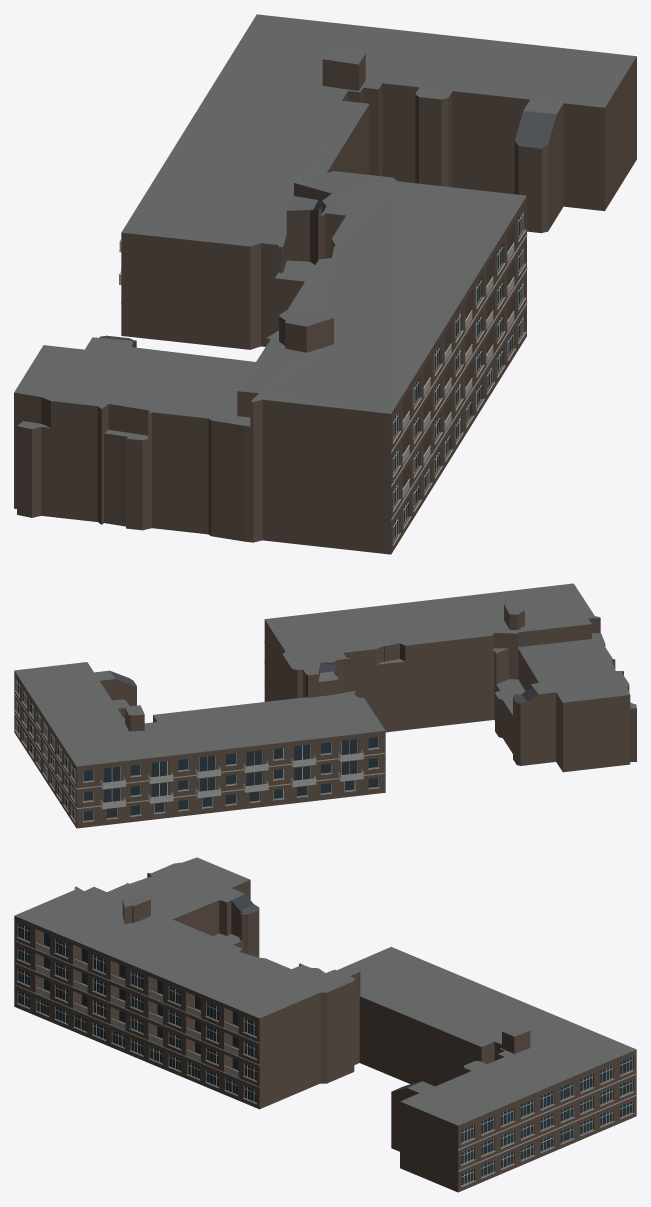
The model's file is recipe-large-van-beuningenstraat-48-093853.glb.
3 views of the same model, one above another, from view 1: azimuth 30°, elevation 25°; view 2: azimuth 150°, elevation 25°; view 3: azimuth 270°, elevation 25° (orthographic). The views are drawn at different scales.
Parts seen in each view (by area): view 1: van-beuningenstraat-48-093853; view 2: van-beuningenstraat-48-093853; view 3: van-beuningenstraat-48-093853.
Boxes of the visible parts, bbox=[...] form: van-beuningenstraat-48-093853: bbox=[14, 14, 636, 554]; van-beuningenstraat-48-093853: bbox=[14, 583, 636, 828]; van-beuningenstraat-48-093853: bbox=[14, 857, 636, 1192].
Size of the model in its own units: 97.8 by 18.87 by 98.44.
